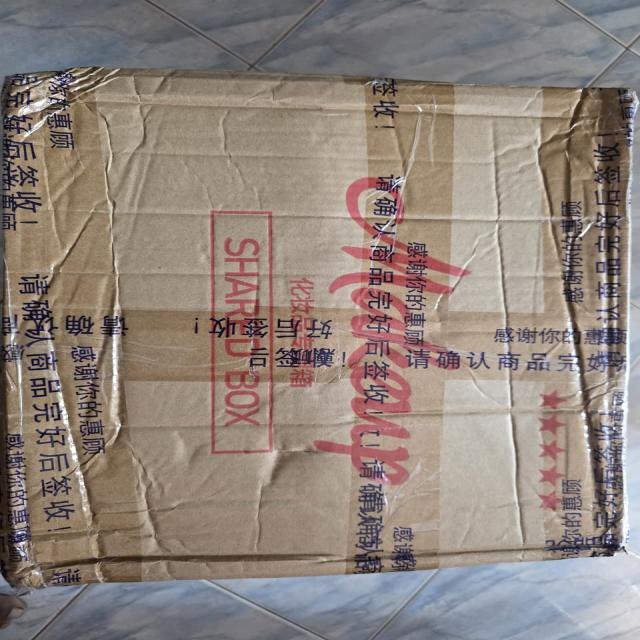carton_box: (1, 53, 640, 594)
package_damage: (552, 83, 630, 535)
